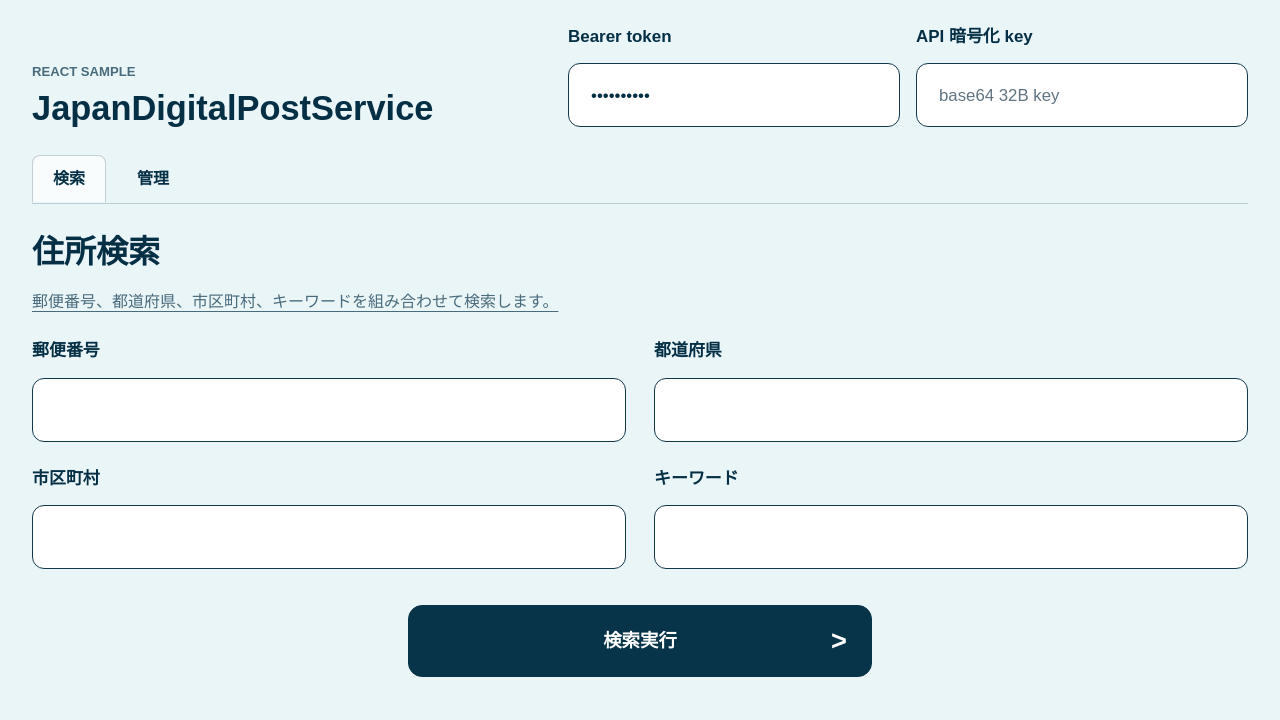
Scenario: App › searches addresses and shows result counts
The width and height of the screenshot is (1280, 720).
Type "1000001" into the field labelled "郵便番号" at (329, 410), box x1=32 y1=378 x2=626 y2=442
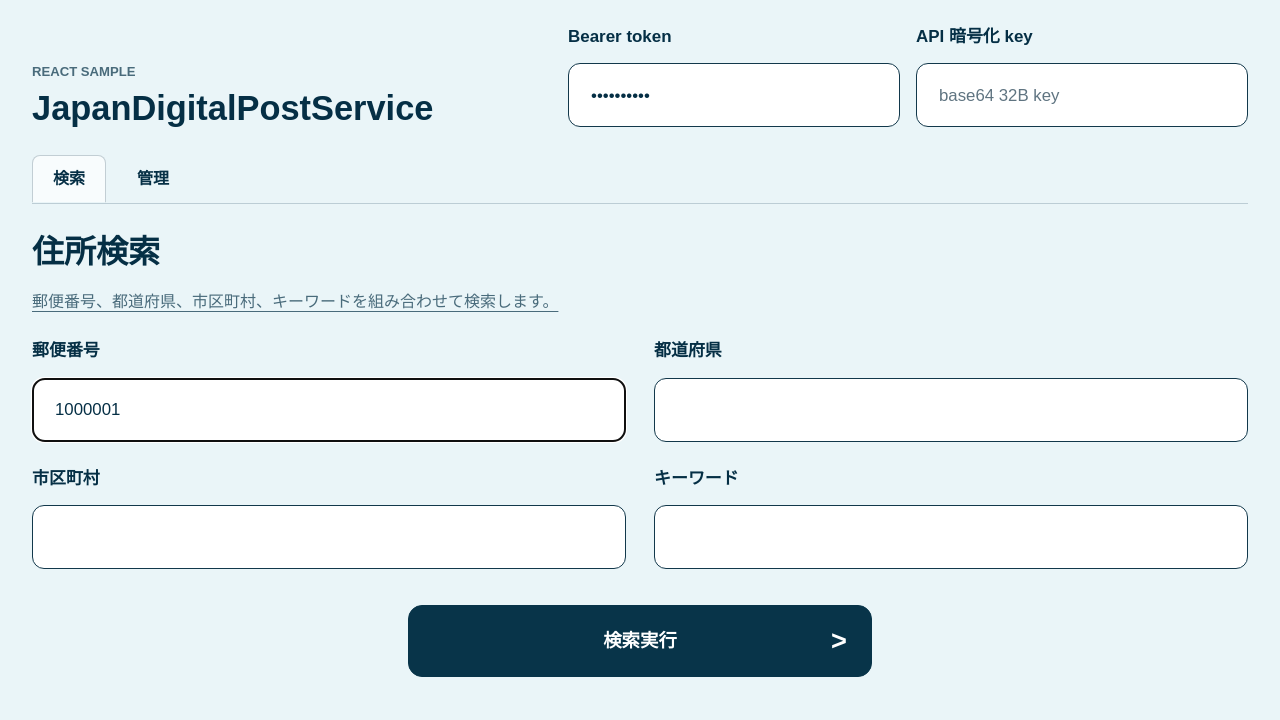
Click the button "検索実行" at (640, 641), box x1=408 y1=605 x2=872 y2=677
(page scrolled)
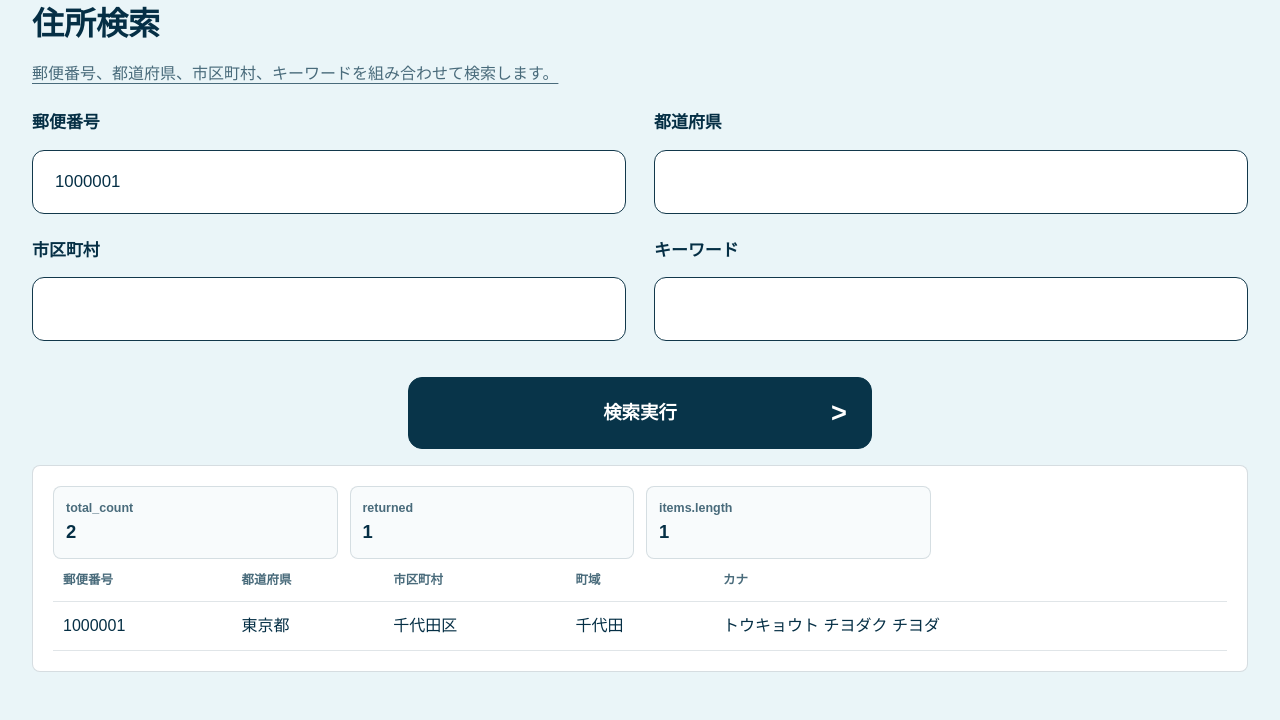
Expected: the text "total_count" is shown, x1=66 y1=501 x2=133 y2=515
Expected: the text "returned" is shown, x1=362 y1=501 x2=413 y2=515
Expected: the text "items.length" is shown, x1=659 y1=501 x2=732 y2=515
